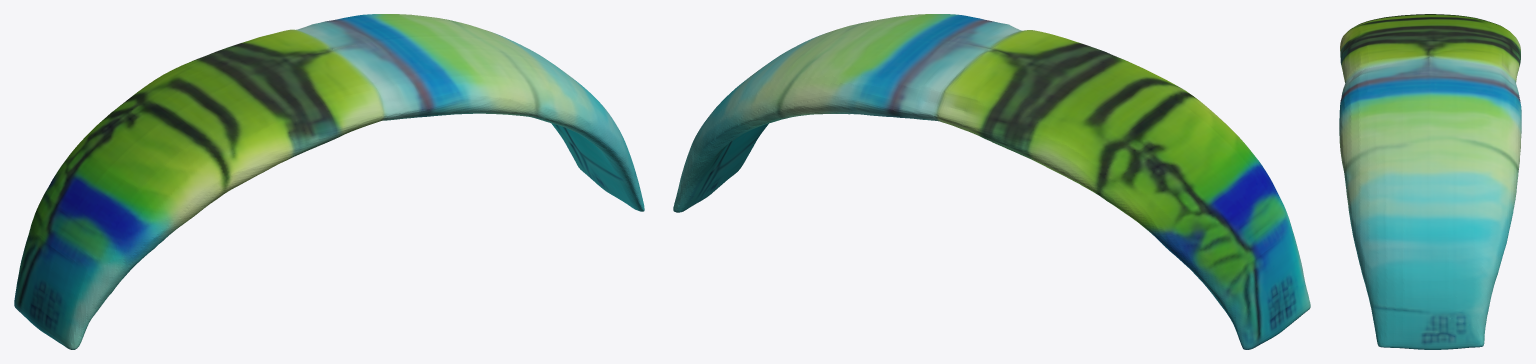
The model's file is mountains-parachute.glb.
3 views of the same model, side by side, from view 1: azimuth 30°, elevation 25°; view 2: azimuth 150°, elevation 25°; view 3: azimuth 270°, elevation 25° (orthographic). The views are drawn at different scales.
Parts seen in each view (by area): view 1: world; view 2: world; view 3: world.
Part boxes in pixels (x1,y1,x2,y2): world: [14, 14, 644, 349]; world: [673, 14, 1310, 349]; world: [1339, 14, 1521, 349].
Bounding box in the file's own units: 0.9983 × 0.349 × 0.3253.
